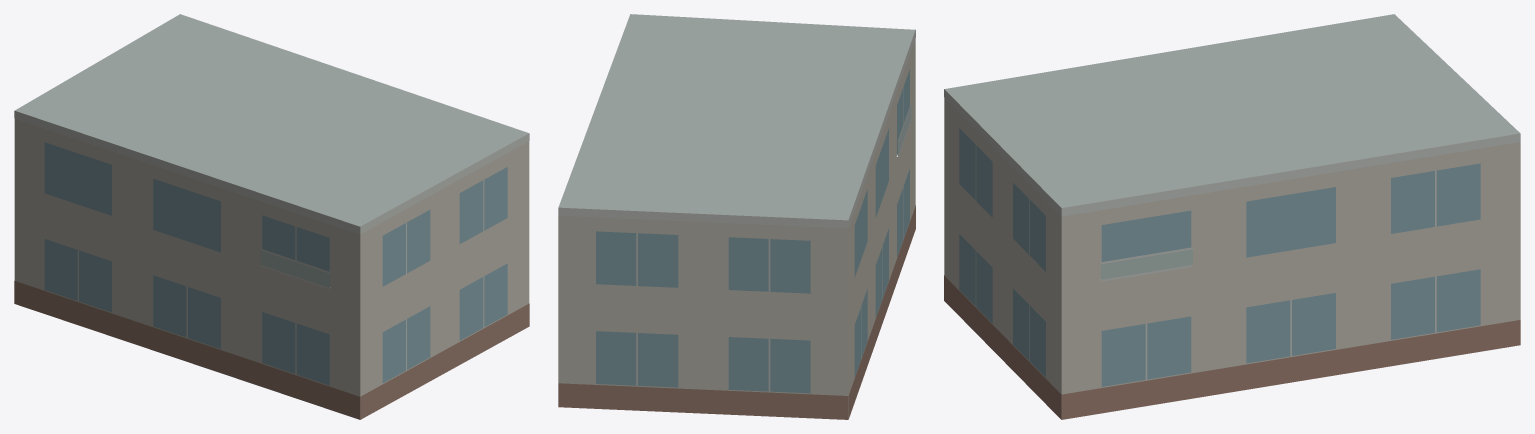
The model's file is survey-upis-32977023.glb.
3 views of the same model, side by side, from view 1: azimuth 30°, elevation 25°; view 2: azimuth 150°, elevation 25°; view 3: azimuth 270°, elevation 25° (orthographic). The views are drawn at different scales.
Parts seen in each view (by area): view 1: survey-upis-32977023.tmp; view 2: survey-upis-32977023.tmp; view 3: survey-upis-32977023.tmp.
Part boxes in pixels (x1,y1,x2,y2): survey-upis-32977023.tmp: [14, 14, 529, 419]; survey-upis-32977023.tmp: [558, 14, 915, 419]; survey-upis-32977023.tmp: [944, 14, 1520, 419].
Bounding box in the file's own units: 12.01 × 6.1 × 15.06.
